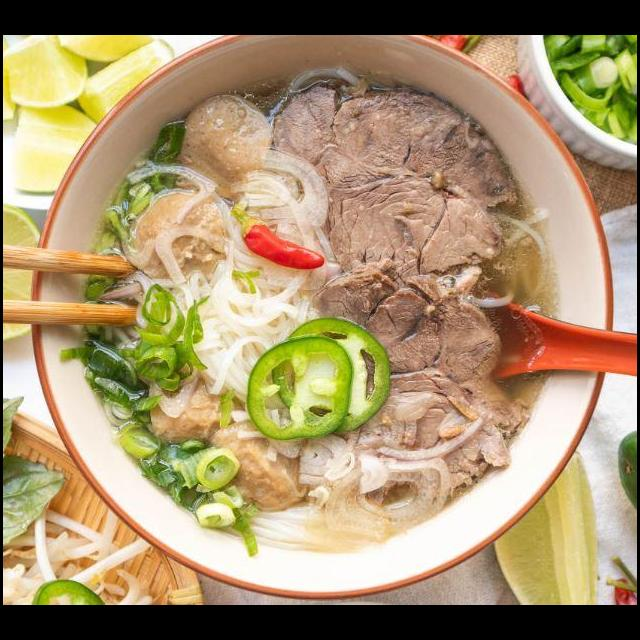banh pho: (138, 235, 334, 444), (219, 480, 426, 557)
pho bo: (30, 64, 637, 605)
thit bo: (268, 74, 523, 218), (341, 362, 533, 511), (307, 257, 508, 389), (315, 162, 507, 279)
